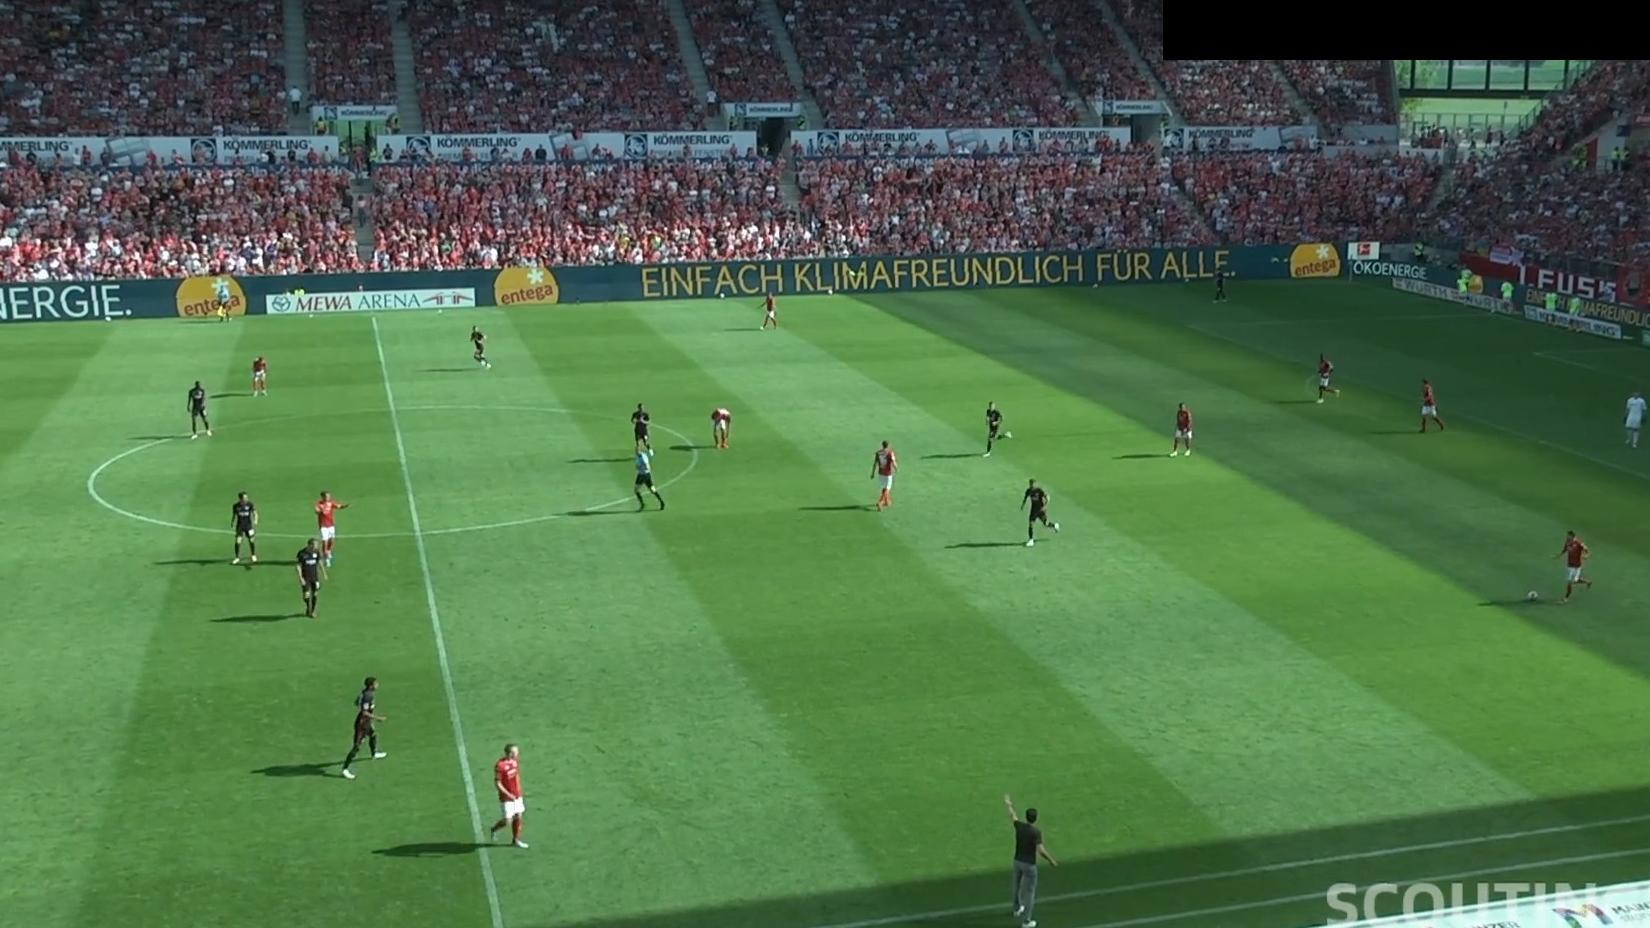ball: (1525, 590, 1538, 604)
